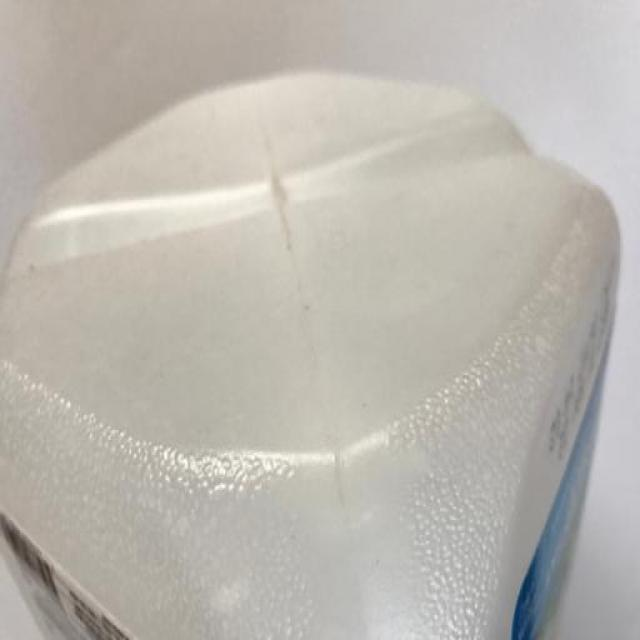Waste: (0, 73, 621, 639)
